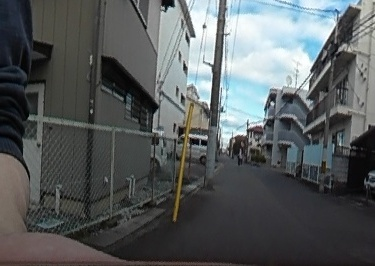person: (235, 144, 243, 165)
